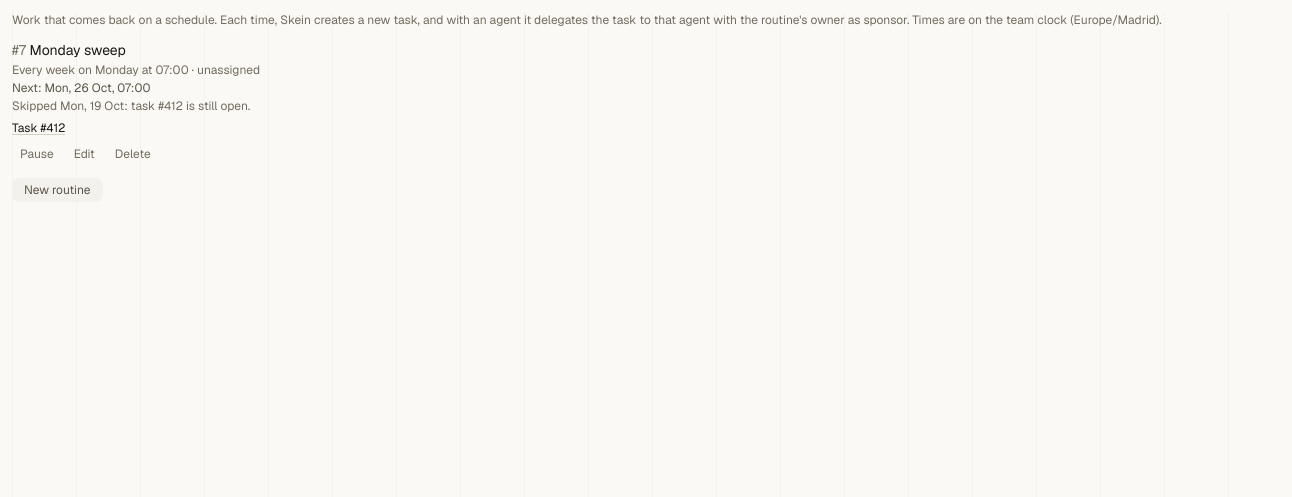
Test: editing and deleting › offers no agent when editing a private routine, and says why
The image size is (1292, 497).
Click the button named "Edit routine #7" at (84, 154), box [66, 142, 103, 166]
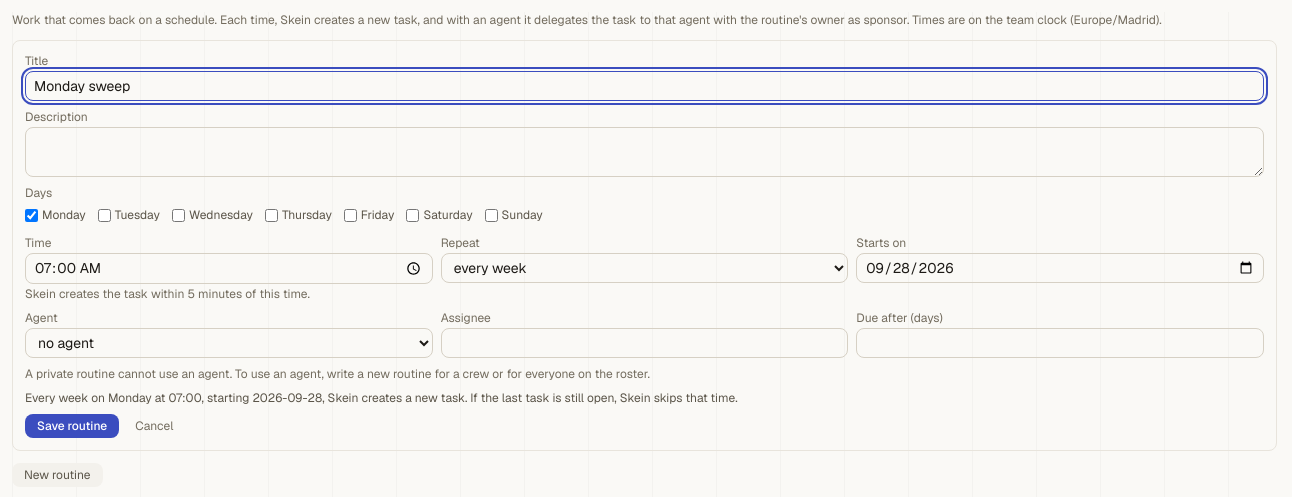
Now the dropdown labelled "Agent" is disabled, box [25, 328, 433, 358]
Now the text "A private routine cannot use an agent" is shown, box [25, 366, 650, 382]
